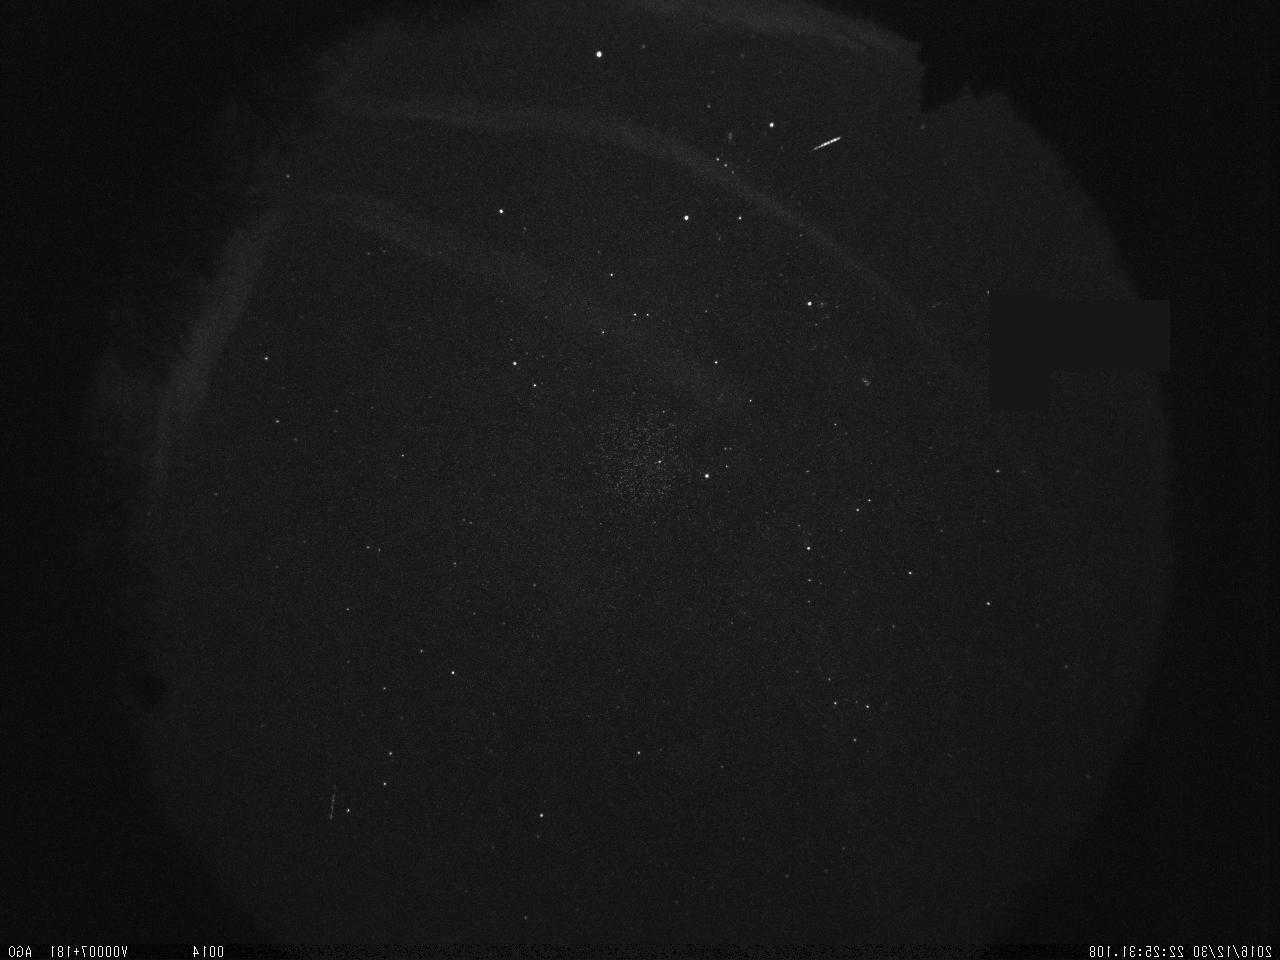meteor: (806, 128, 843, 162)
